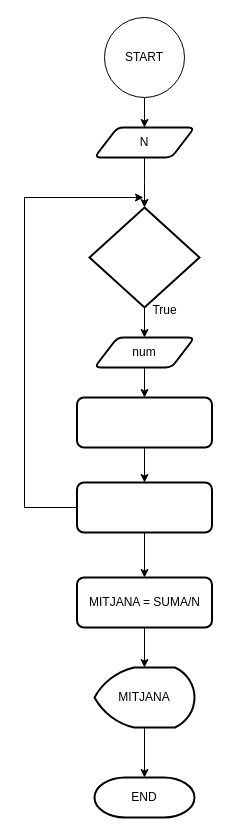
Some shapes in this 230 by 836 pixel diagram are drawn without their labels. The centre of each missing label's shape, as x and y in pixels:
CONTADOR < N: point (144, 257)
CONTADOR = CONTADOR +1: point (144, 507)
SUMA = SUMA + NUM: point (144, 422)
